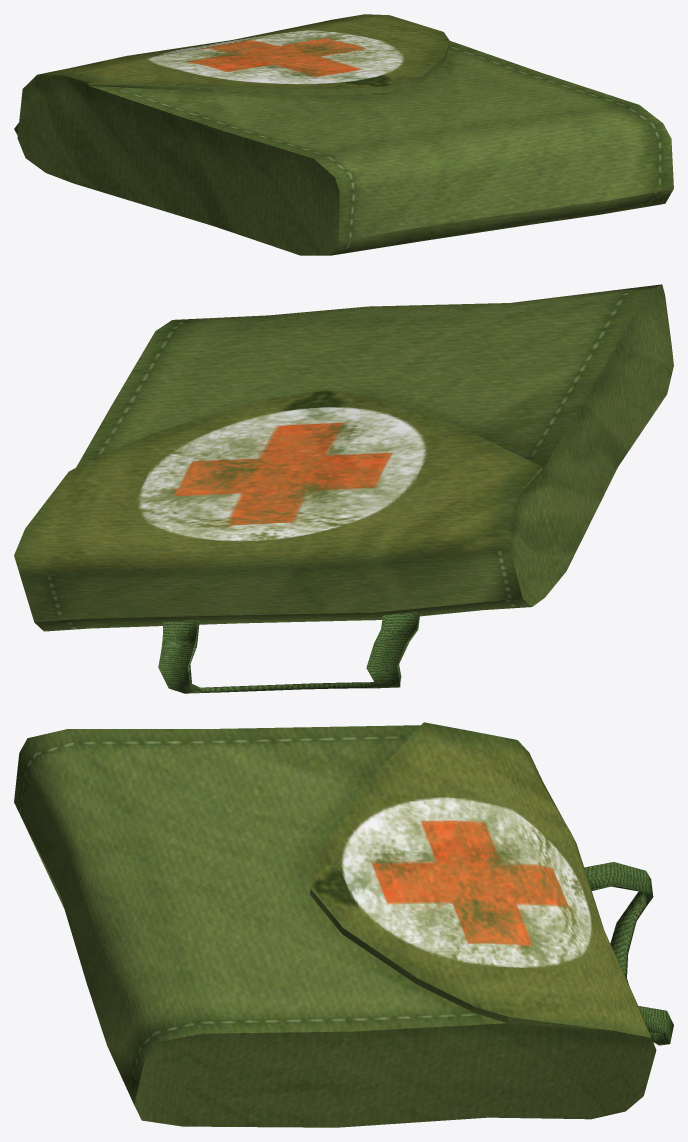
The model's file is medp_1st.glb.
The picture shows the model from 3 angles, top to bottom: view 1: azimuth 30°, elevation 25°; view 2: azimuth 150°, elevation 25°; view 3: azimuth 270°, elevation 25°; orthographic projection. The views are drawn at different scales.
Visible parts, largest first — view 1: _medp_1st; view 2: _medp_1st; view 3: _medp_1st.
Part boxes in pixels (box(x1,y1,x2,y2)): _medp_1st: box(14, 14, 673, 255); _medp_1st: box(14, 284, 673, 693); _medp_1st: box(14, 722, 673, 1127).
Size of the model in its own units: 0.2956 by 0.1216 by 0.3128.
1 material, 1 textured.
